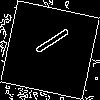I: (25, 25, 72, 62)
